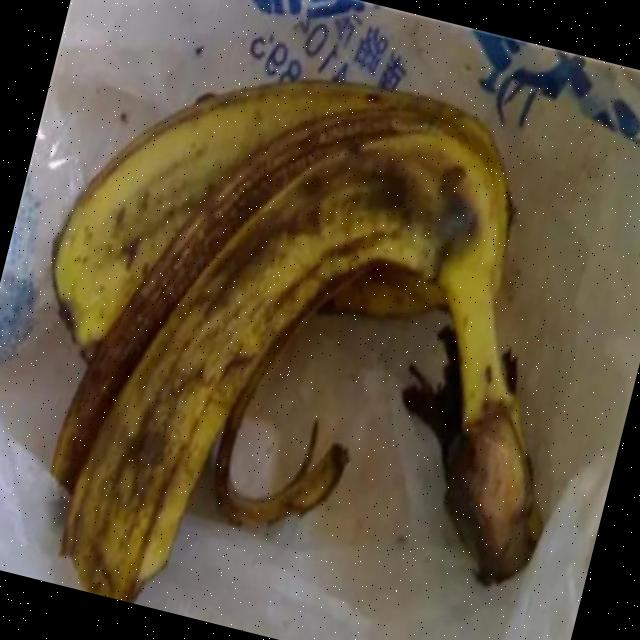banana-peel: (0, 14, 637, 640)
